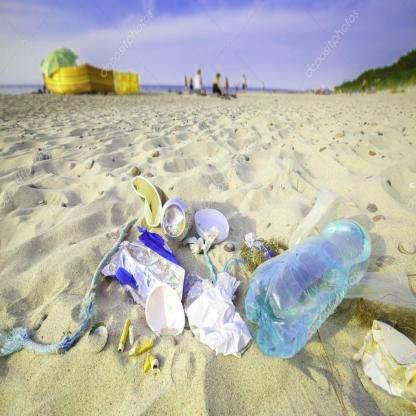Plastic: (248, 215, 378, 360), (158, 196, 191, 241)
Trash: (131, 175, 164, 230)
